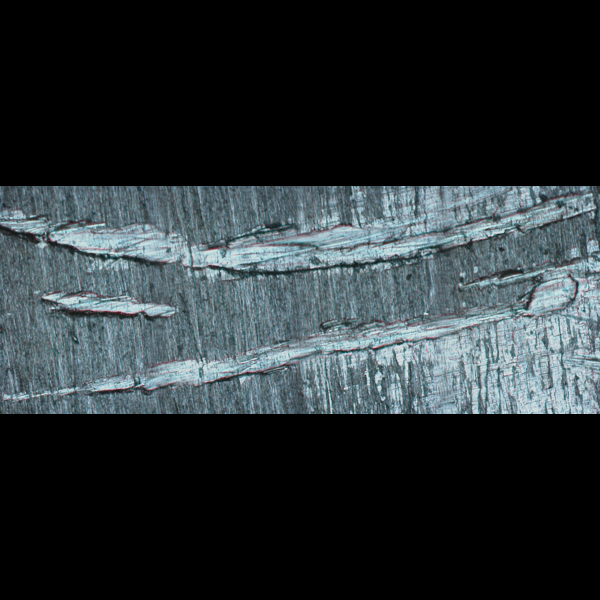d: (3, 240, 599, 411), (0, 186, 599, 279), (37, 283, 184, 326)
